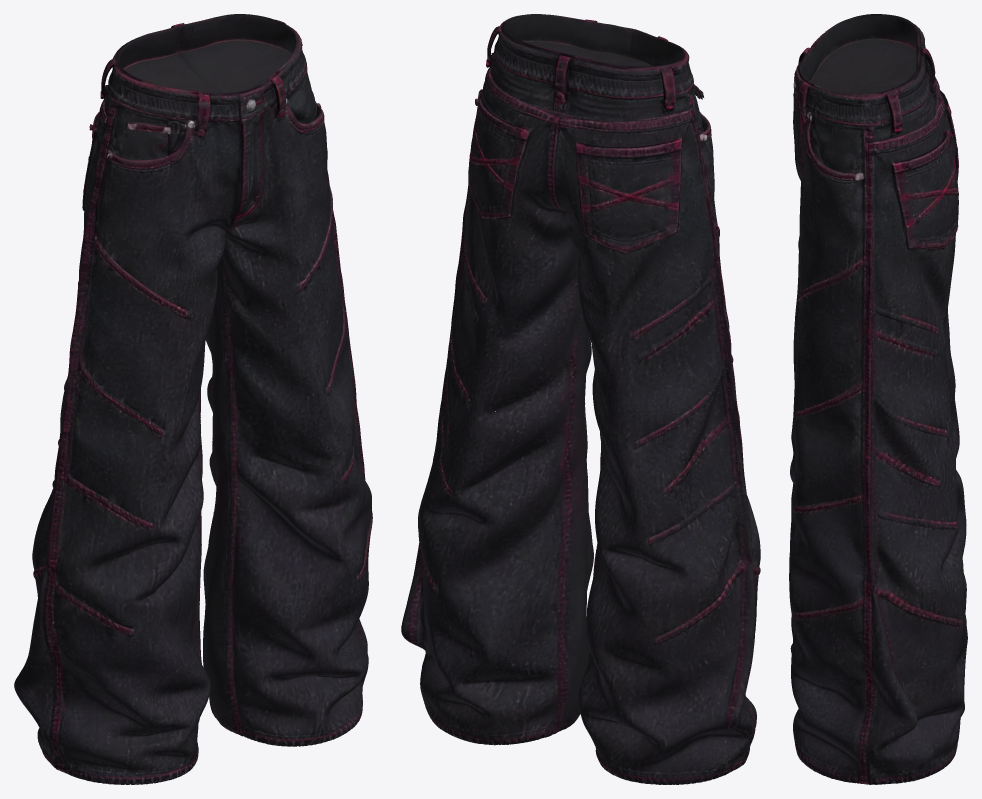
The model's file is jeans-redline.glb.
3 views of the same model, side by side, from view 1: azimuth 30°, elevation 25°; view 2: azimuth 150°, elevation 25°; view 3: azimuth 270°, elevation 25° (orthographic). The views are drawn at different scales.
Visible parts, largest first — view 1: tripo_node_019fffe1-bd2e-4d98-b0b8-af8633c88b86; view 2: tripo_node_019fffe1-bd2e-4d98-b0b8-af8633c88b86; view 3: tripo_node_019fffe1-bd2e-4d98-b0b8-af8633c88b86.
Boxes of the visible parts, <box> form: tripo_node_019fffe1-bd2e-4d98-b0b8-af8633c88b86: <box>14,14,372,784</box>; tripo_node_019fffe1-bd2e-4d98-b0b8-af8633c88b86: <box>401,14,760,784</box>; tripo_node_019fffe1-bd2e-4d98-b0b8-af8633c88b86: <box>789,14,967,784</box>.
Size of the model in its own units: 0.5615 by 1.1 by 0.2669.
Materials: 1 (1 with a texture image).
